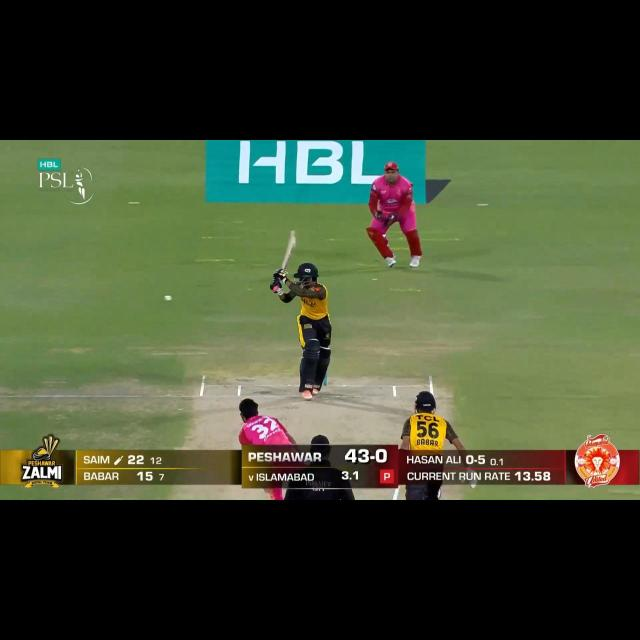bat: (281, 230, 296, 272), (390, 484, 403, 499)
toe: (291, 227, 297, 249)
